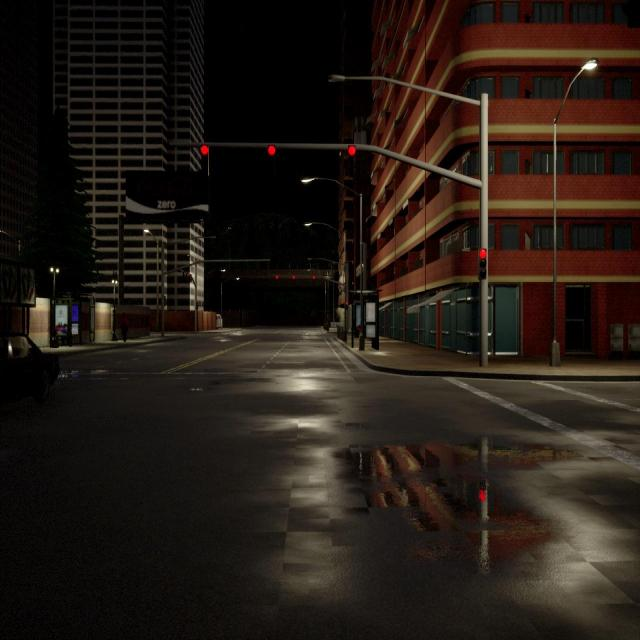Pedestrian: (119, 311, 130, 343)
Vehicle: (0, 333, 59, 404), (216, 314, 223, 330)
traffic_light: (478, 248, 487, 280), (348, 145, 356, 174), (268, 145, 276, 170), (200, 145, 208, 169), (188, 274, 192, 282), (182, 271, 185, 280), (196, 302, 199, 310), (186, 272, 188, 282), (292, 274, 295, 280), (346, 301, 348, 310), (312, 276, 315, 280), (276, 275, 278, 279)
